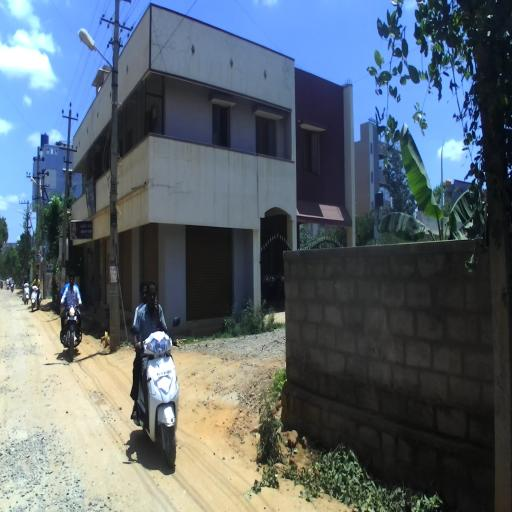street_light_0: (78, 28, 118, 90), (30, 177, 44, 198), (18, 222, 28, 232), (18, 210, 28, 219)
